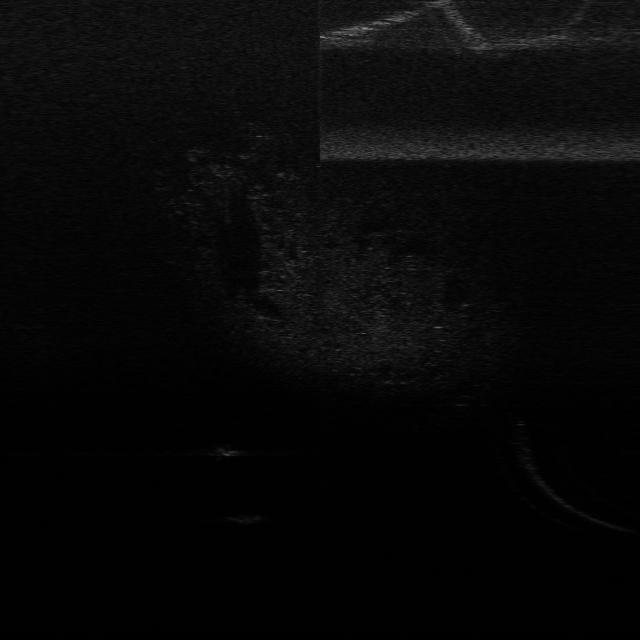cube: (228, 503, 270, 528)
square cage: (217, 438, 244, 461)
